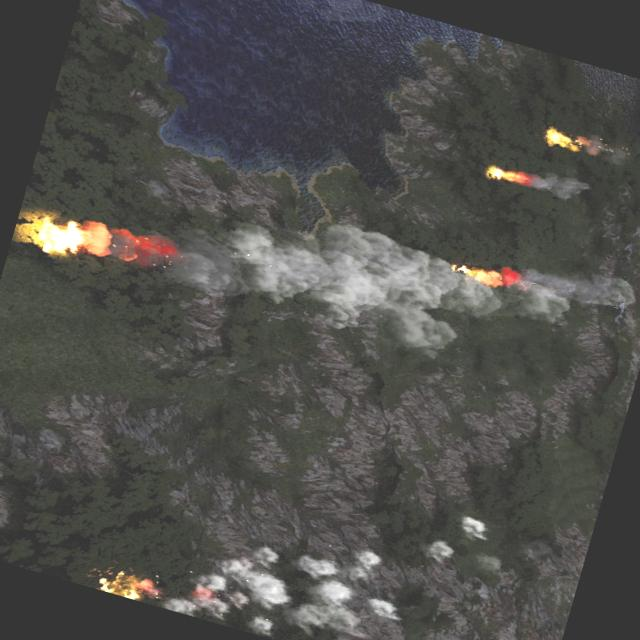fire: (10, 196, 178, 285), (96, 564, 162, 606), (454, 253, 518, 292), (484, 160, 530, 188), (542, 126, 584, 154)
smoke: (82, 132, 636, 410), (159, 495, 416, 640), (522, 165, 589, 207), (454, 513, 493, 542), (421, 538, 456, 564)
